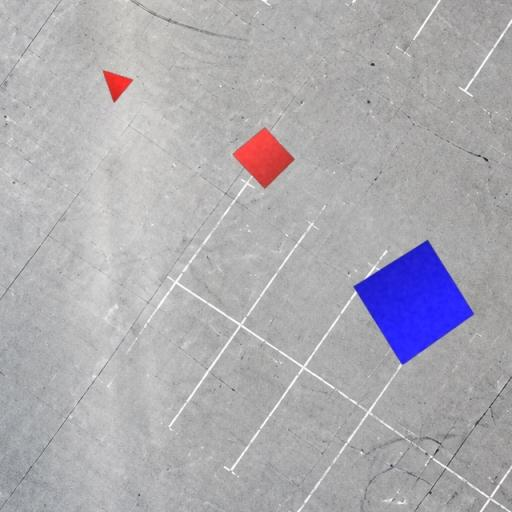BLUE_SQUARE: (353, 240, 474, 366)
RED_SQUARE: (231, 127, 295, 190)
